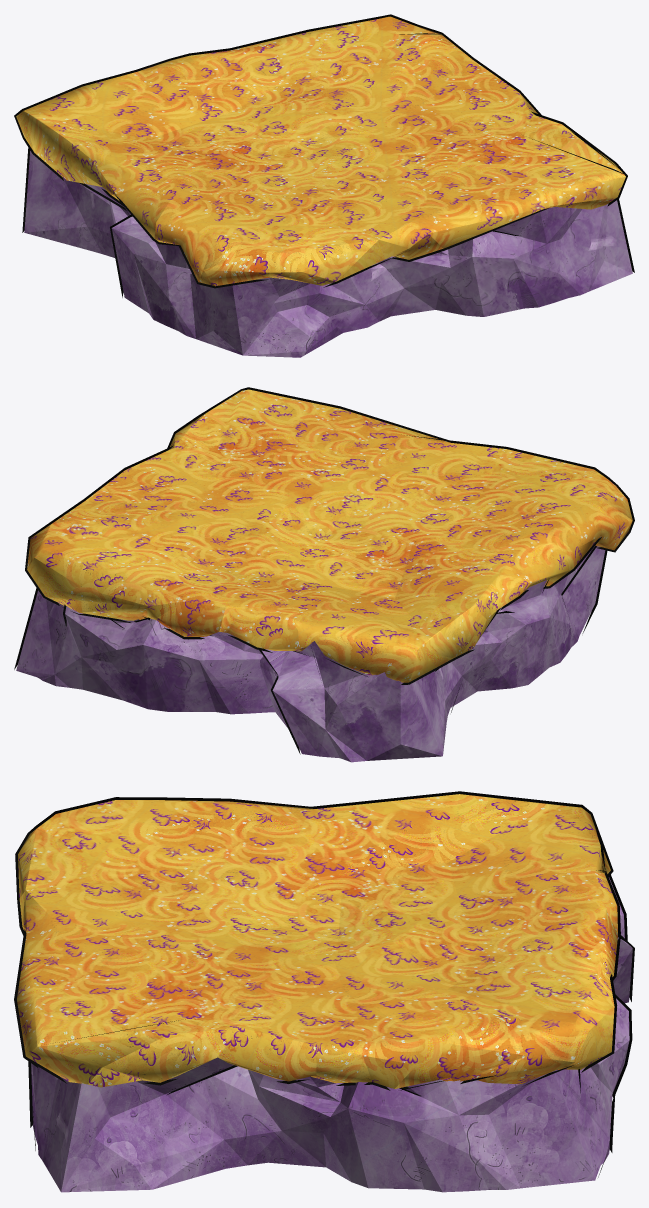
File: s0_Floating_Island_03__1__01.glb
The picture shows the model from 3 angles, top to bottom: view 1: azimuth 30°, elevation 25°; view 2: azimuth 150°, elevation 25°; view 3: azimuth 270°, elevation 25°; orthographic projection. The views are drawn at different scales.
Parts seen in each view (by area): view 1: node_Floating_Island_03 (1), node_Floating_Island_3_Outline; view 2: node_Floating_Island_03 (1), node_Floating_Island_3_Outline; view 3: node_Floating_Island_03 (1), node_Floating_Island_3_Outline.
Part boxes in pixels (x1,y1,x2,y2): node_Floating_Island_03 (1): (16,16,632,357); node_Floating_Island_3_Outline: (14,14,634,297); node_Floating_Island_03 (1): (16,389,632,762); node_Floating_Island_3_Outline: (14,387,634,754); node_Floating_Island_03 (1): (17,794,632,1192); node_Floating_Island_3_Outline: (14,791,634,1177).
Size of what is drawn, in the model's own units: 15.66 by 4.39 by 15.86.
3 materials, 2 textured.
